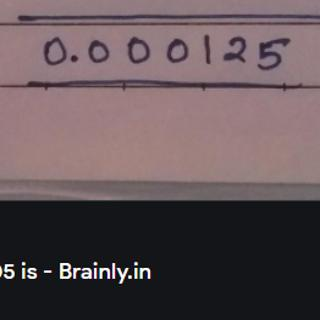.: (69, 51, 80, 64)
0: (42, 35, 68, 65), (125, 37, 151, 65), (164, 36, 189, 63), (87, 39, 111, 65)
1: (204, 33, 212, 65)
2: (223, 36, 248, 65)
5: (258, 37, 292, 72), (3, 257, 17, 283)
